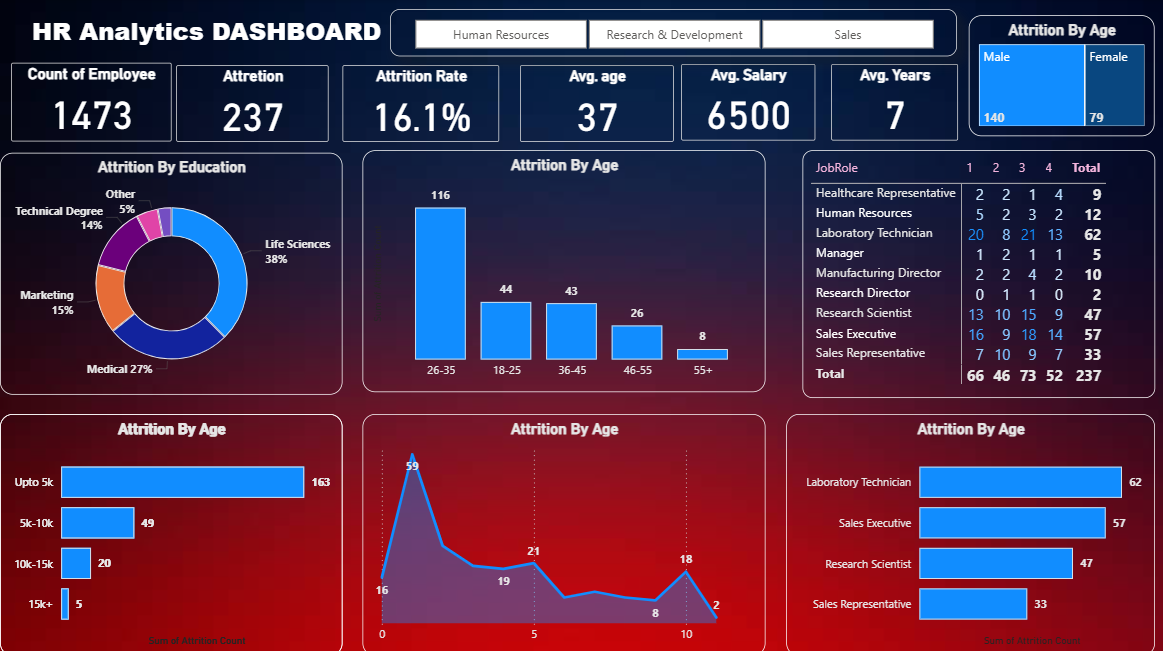

The dashboard page shown, as its layout file describes it:
{"tool":"powerbi","page":{"name":"Page 1","canvas":[1280,720],"ordinal":0},"visuals":[{"type":"card","title":"Count of  Employee","fields":{"Values":["CountNonNull(HR_Analytics (1).EmpID)"]},"box":[12.6,69.5,167.5,83.8],"z":0},{"type":"card","title":"Attretion","fields":{"Values":["Sum(HR_Analytics (1).Attritioncolumn)"]},"box":[192.8,72.7,167.5,83.8],"z":1000},{"type":"card","title":"Attrition Rate","fields":{"Values":["HR_Analytics (1).AttritionRate1"]},"box":[376.2,72.7,172.3,83.8],"z":2000},{"type":"card","title":"Avg. age ","fields":{"Values":["Avg(HR_Analytics (1).Age)"]},"box":[570.6,72.7,169.1,83.8],"z":3000},{"type":"card","title":"Avg. Salary","fields":{"Values":["Avg(HR_Analytics (1).MonthlyIncome)"]},"box":[747.6,71.1,147,83.8],"z":4000},{"type":"card","title":"Avg. Years","fields":{"Values":["Avg(HR_Analytics (1).YearsAtCompany)"]},"box":[912,71.1,139.1,83.8],"z":5000},{"type":"donutChart","title":"Attrition By Education","fields":{"Category":["HR_Analytics (1).EducationField"],"Y":["Sum(HR_Analytics (1).Attritioncolumn)"]},"box":[0,169.1,376.2,265.5],"z":6000},{"type":"columnChart","title":"Attrition By Age","fields":{"Category":["HR_Analytics (1).AgeGroup"],"Y":["Sum(HR_Analytics (1).Attritioncolumn)"]},"box":[398.3,166,442.6,265.5],"z":7000},{"type":"pivotTable","fields":{"Rows":["HR_Analytics (1).JobRole"],"Columns":["HR_Analytics (1).JobSatisfaction"],"Values":["Sum(HR_Analytics (1).Attritioncolumn)"]},"box":[880.4,166,387.3,271.9],"z":8000},{"type":"barChart","title":"Attrition By Age","fields":{"Category":["HR_Analytics (1).SalarySlab"],"Y":["Sum(HR_Analytics (1).Attrition Count)"]},"box":[0,455.2,376.2,265.5],"z":9000},{"type":"barChart","title":"Attrition By Age","fields":{"Category":["HR_Analytics (1).SalarySlab"],"Y":["Sum(HR_Analytics (1).Attrition Count)"]},"box":[0,455.2,376.2,265.5],"z":10000},{"type":"barChart","title":"Attrition By Age","fields":{"Category":["HR_Analytics (1).JobRole"],"Y":["Sum(HR_Analytics (1).Attrition Count)"]},"box":[863,455.2,404.6,265.5],"z":11000},{"type":"areaChart","title":"Attrition By Age","fields":{"Category":["HR_Analytics (1).YearsAtCompany"],"Y":["Sum(HR_Analytics (1).Attrition Count)"]},"box":[398.3,455.2,442.6,265.5],"z":12000},{"type":"treemap","title":"Attrition By Age","fields":{"Group":["HR_Analytics (1).Gender"],"Values":["Sum(HR_Analytics (1).Attrition Count)"]},"box":[1063.8,17.4,203.9,132.8],"z":12001},{"type":"slicer","fields":{"Values":["HR_Analytics (1).Department"]},"box":[428.4,11.1,622.8,52.2],"z":12002},{"type":"textbox","box":[30,11.1,398.3,55.3],"z":12004}]}

Visuals, with their boxes in screenshot pixels (x1, y1, x2, y2), scaled from the page's 1280x720 canvas onto the 1163x651 screenshot:
"Count of  Employee" card: (left=11, top=63, right=164, bottom=139)
"Attretion" card: (left=175, top=66, right=327, bottom=142)
"Attrition Rate" card: (left=342, top=66, right=498, bottom=142)
"Avg. age " card: (left=518, top=66, right=672, bottom=142)
"Avg. Salary" card: (left=679, top=64, right=813, bottom=140)
"Avg. Years" card: (left=829, top=64, right=955, bottom=140)
"Attrition By Education" donutChart: (left=0, top=153, right=342, bottom=393)
"Attrition By Age" columnChart: (left=362, top=150, right=764, bottom=390)
pivotTable - HR_Analytics (1).JobRole x HR_Analytics (1).JobSatisfaction: (left=800, top=150, right=1152, bottom=396)
"Attrition By Age" barChart: (left=0, top=412, right=342, bottom=650)
"Attrition By Age" barChart: (left=0, top=412, right=342, bottom=650)
"Attrition By Age" barChart: (left=784, top=412, right=1152, bottom=650)
"Attrition By Age" areaChart: (left=362, top=412, right=764, bottom=650)
"Attrition By Age" treemap: (left=967, top=16, right=1152, bottom=136)
slicer - HR_Analytics (1).Department: (left=389, top=10, right=955, bottom=57)
textbox: (left=27, top=10, right=389, bottom=60)
